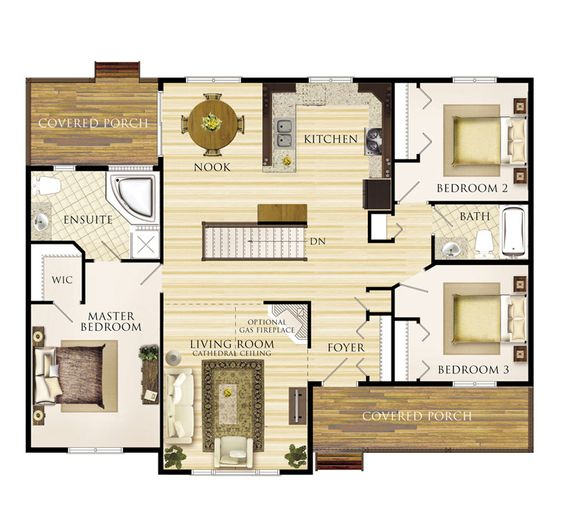room: (157, 71, 396, 289), (158, 298, 312, 475), (24, 298, 165, 454), (390, 73, 535, 206), (389, 260, 535, 386), (24, 165, 165, 262), (427, 199, 536, 265)
window: (188, 467, 281, 478), (184, 72, 243, 86), (65, 444, 124, 456), (451, 73, 499, 86), (451, 378, 498, 390), (307, 74, 355, 84)
